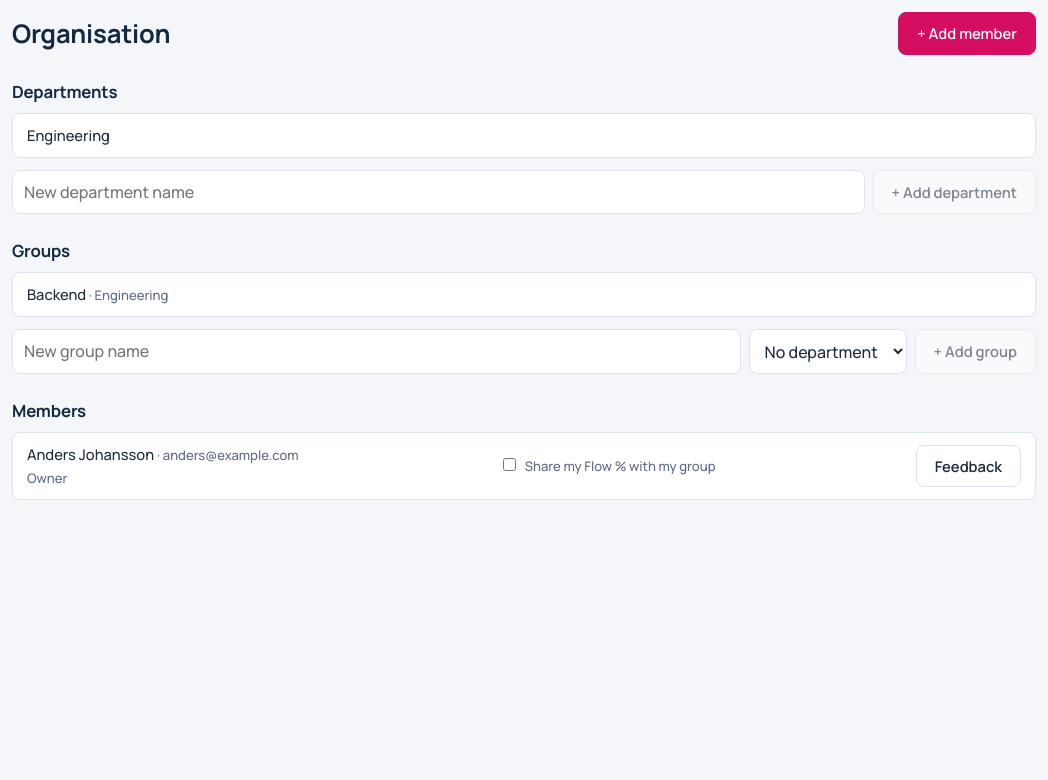
Test: OrganisationPage › with an Organisation account › shows an error message if creating a department fails, without losing the typed name
Check: the text "Engineering" is shown, box [27, 124, 110, 147]
In the field with placeholder "New department name": (438, 192) [12, 170, 865, 214], type "Sales"
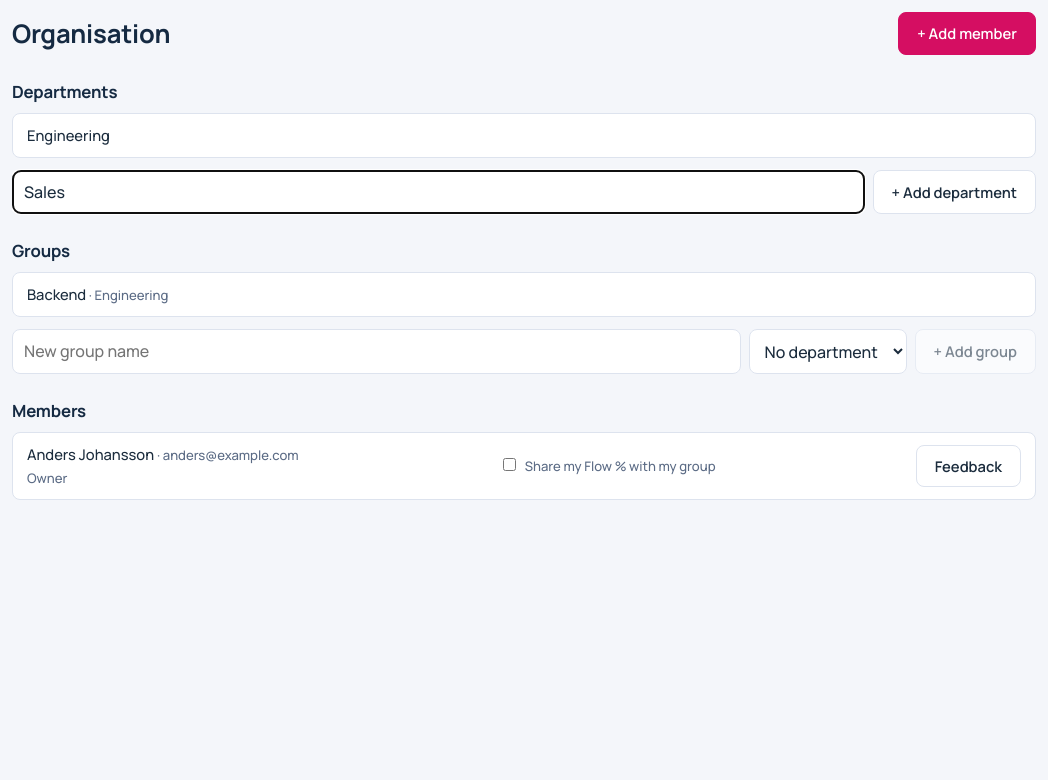
Click the button "+ Add department": (954, 192) [873, 170, 1036, 214]
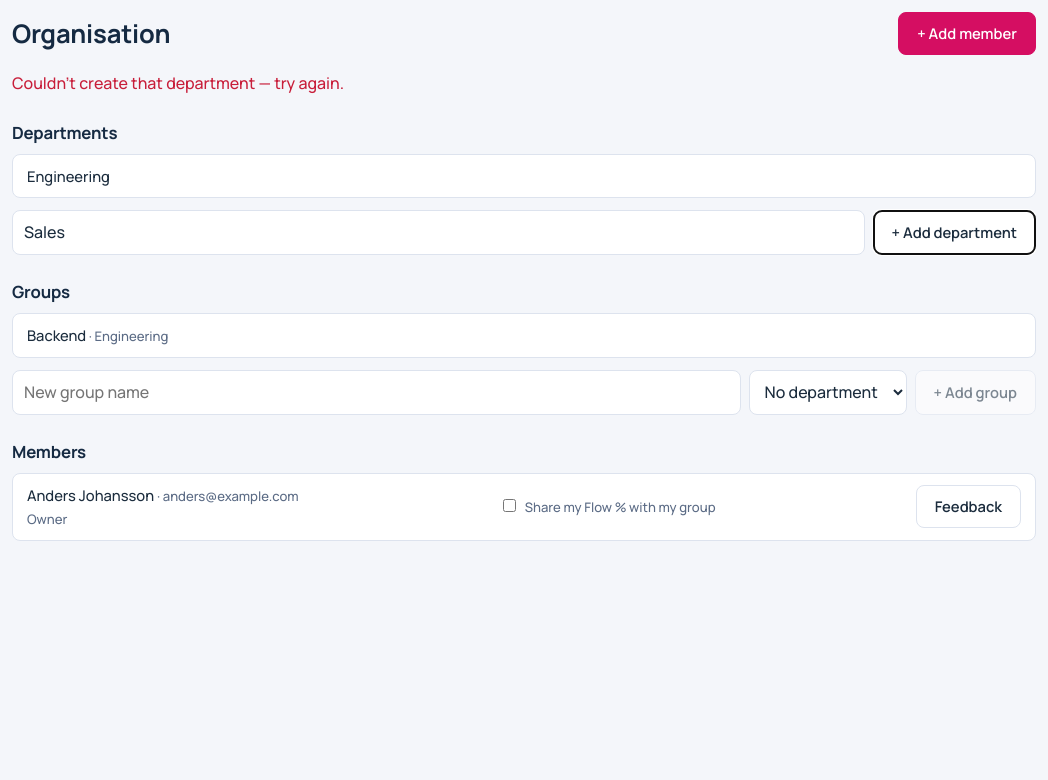
Check: the text "Couldn't create that department — try again." is shown, box [12, 72, 344, 94]
